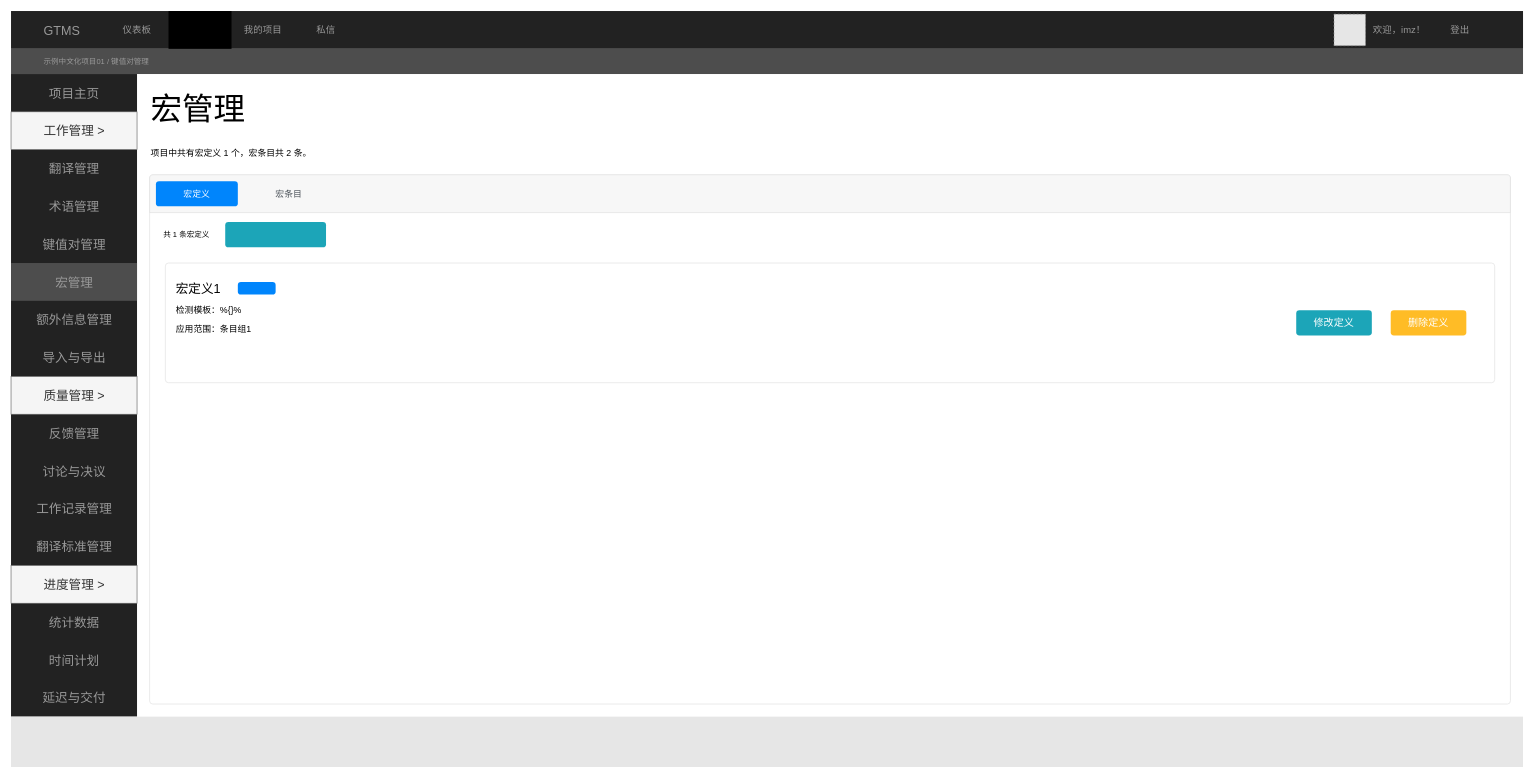
The diagram is 1534 pixels wide and 777 high, and some of its shapes have lost their labels. Grey dashed boxes stand in for pictures. Here are the shapes that lost their labels. From the top down, the centre of each, then its label:
the point at 199,30: 项目浏览
the point at 275,234: 新增定义
the point at 256,288: 启用
the point at 767,741: Yifan Xu 毕业设计 @天津工业大学
